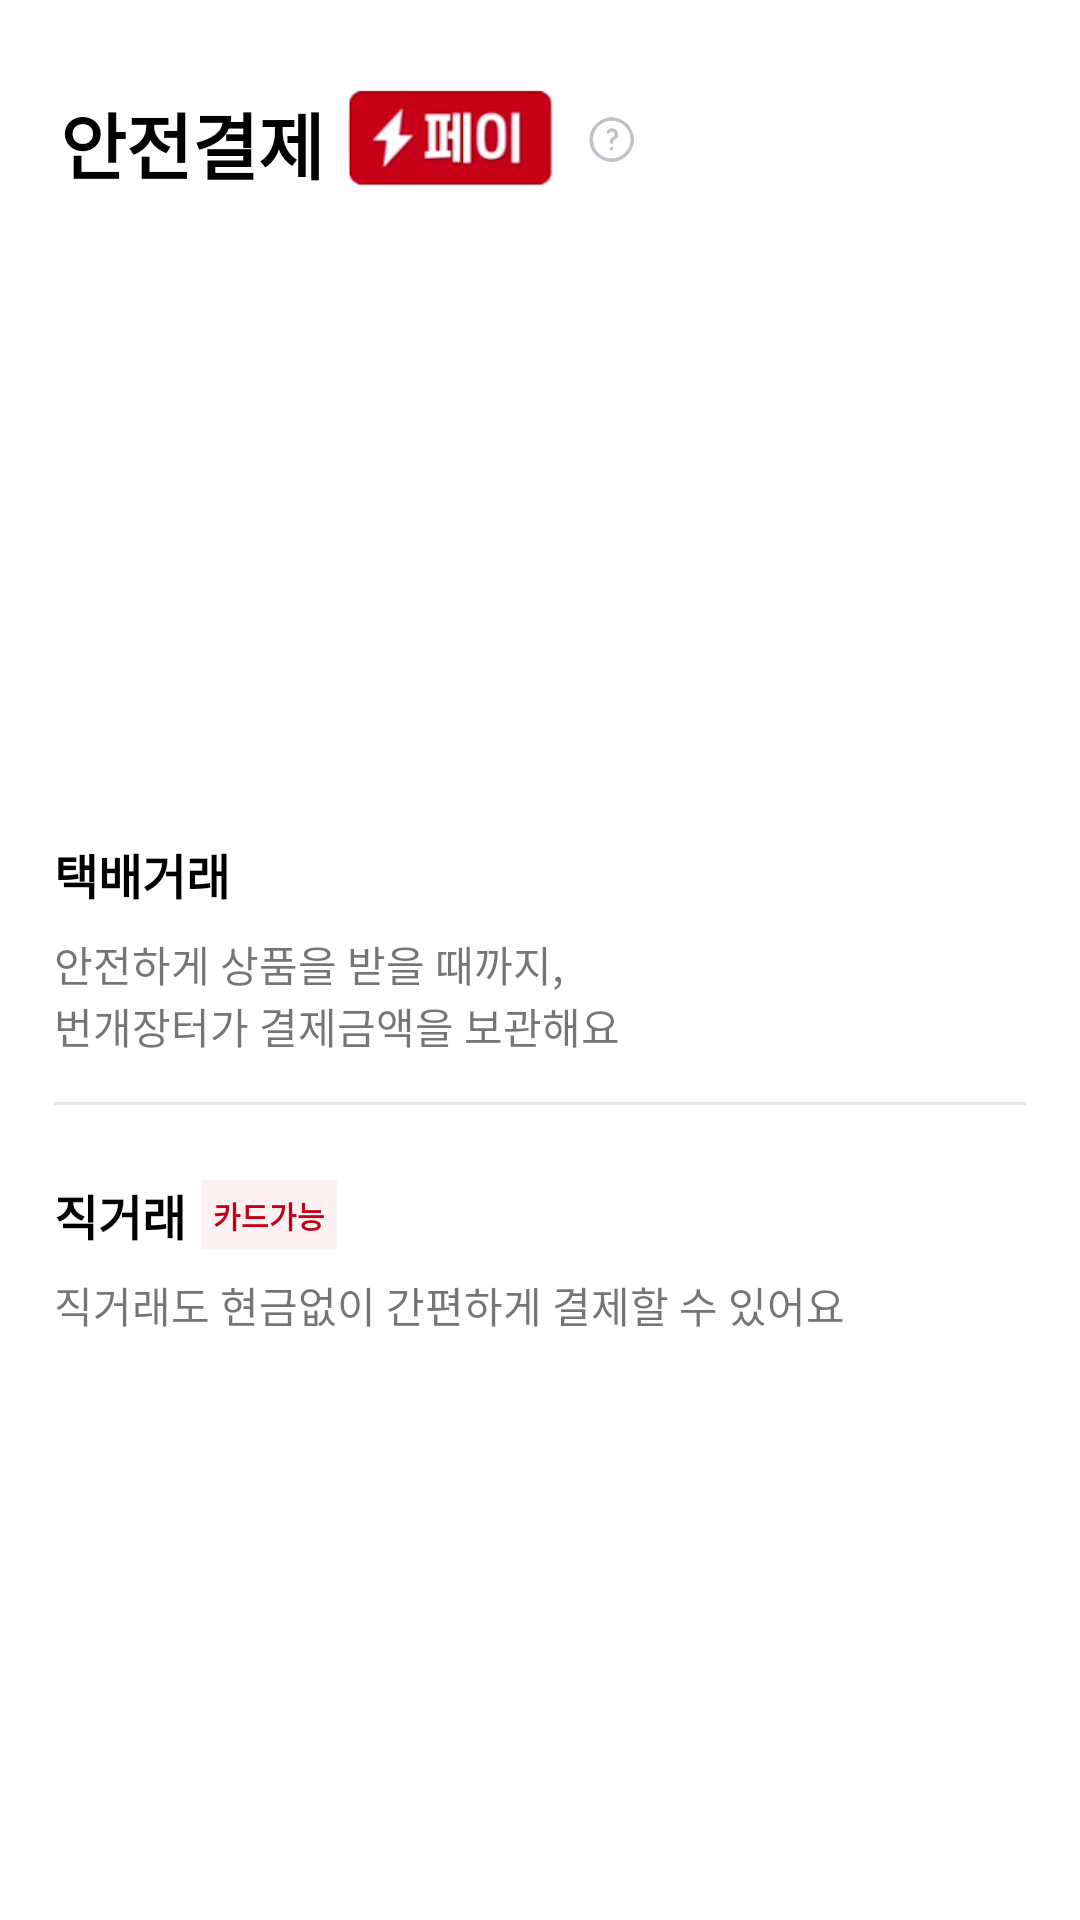

Where icons sit on this 1080 × 1920 app screen, as detection(x1, y1, x2, y2):
pay guide: detection(589, 117, 634, 162)
